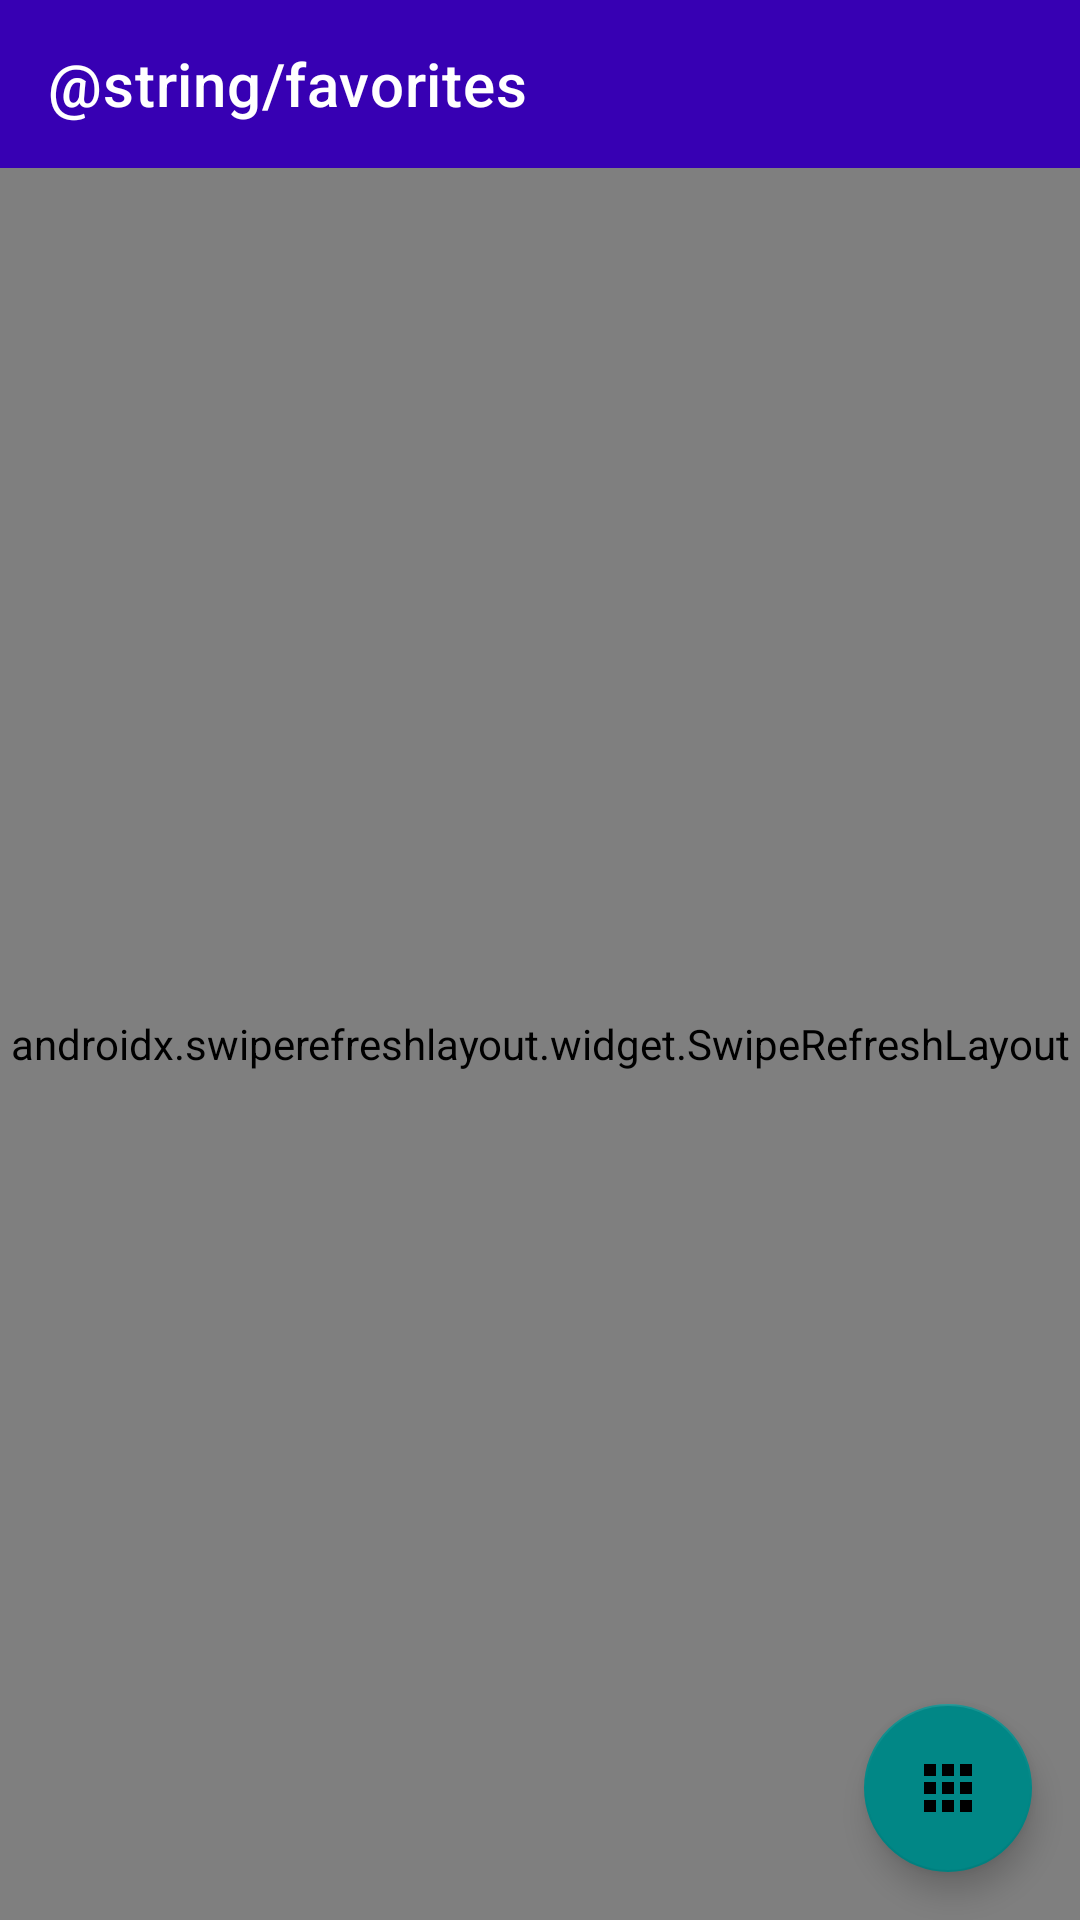

Screen size 1080px x 1920px. Icon name, then its center in pixels as (x,y):
Toggle Layout: (948,1788)
